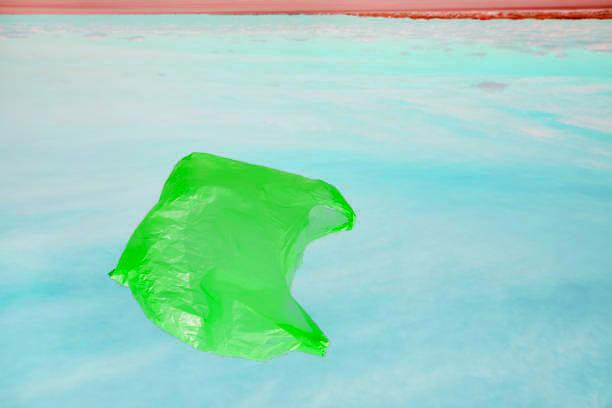Trash: (104, 165, 366, 360)
